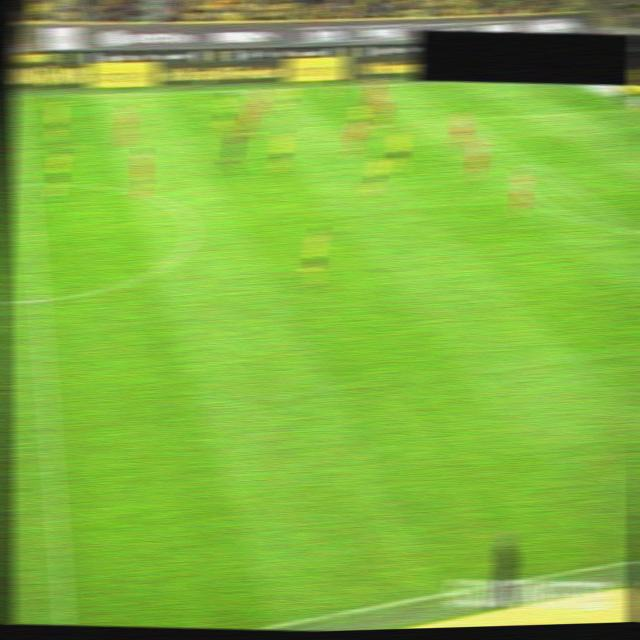bigarea_top_inner: (453, 113, 473, 126)
bigarea_top_outter: (622, 101, 640, 117)
bottom_arc_area_intersection: (628, 223, 640, 240)
halfcircle_bottom: (28, 293, 50, 308)
halfcircle_top: (19, 178, 39, 192)
midline_top_intersection: (11, 89, 31, 102)
top_arc_area_intersection: (523, 157, 542, 170)
